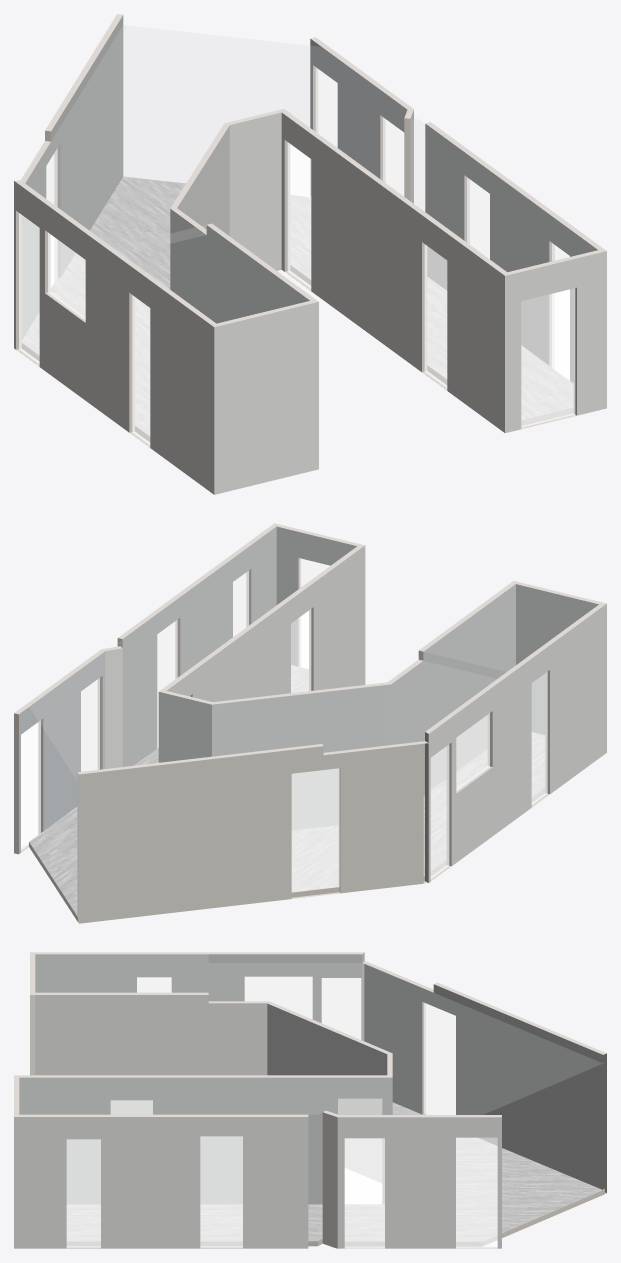
Rendered from floorplan.glb.
3 views of the same model, one above another, from view 1: azimuth 30°, elevation 25°; view 2: azimuth 150°, elevation 25°; view 3: azimuth 270°, elevation 25° (orthographic). The views are drawn at different scales.
Visible parts, largest first — view 1: ceiling_Other_4, wall_39, wall_31, wall_23, ceiling_Other_2, wall_1, wall_8, floor_Other_1, ceiling_Other_3, wall_47, wall_0, wall_27 (+32 smaller); view 2: wall_15, ceiling_Other_4, wall_31, wall_39, wall_10, ceiling_Other_2, wall_8, wall_0, floor_Other_1, ceiling_Other_3, wall_2, door_1 (+34 smaller); view 3: wall_43, wall_1, ceiling_Other_4, wall_7, wall_11, wall_19, wall_5, ceiling_Other_2, floor_Other_1, wall_51, ceiling_Other_3, floor_Other_2 (+35 smaller).
Part boxes in pixels (x1,y1,x2,y2): ceiling_Other_4: (23, 25, 374, 227); wall_39: (281, 113, 504, 432); wall_31: (14, 181, 214, 494); wall_23: (214, 302, 318, 494); ceiling_Other_2: (336, 124, 596, 271); wall_1: (22, 15, 123, 339); wall_8: (425, 124, 597, 382); floor_Other_1: (22, 176, 310, 435); ceiling_Other_3: (114, 225, 309, 322); wall_47: (505, 251, 606, 433); wall_0: (170, 209, 309, 323); wall_27: (229, 112, 281, 270); wall_15: (79, 743, 423, 923); ceiling_Other_4: (30, 672, 463, 779); wall_31: (428, 604, 606, 882); wall_39: (166, 545, 365, 701); wall_10: (212, 684, 391, 829); ceiling_Other_2: (124, 527, 356, 658); wall_8: (122, 526, 276, 766); wall_0: (391, 584, 515, 794); floor_Other_1: (29, 732, 544, 917); ceiling_Other_3: (424, 584, 597, 671); wall_2: (19, 651, 105, 853); door_1: (292, 768, 339, 892); wall_43: (14, 1117, 308, 1248); wall_1: (364, 964, 603, 1189); ceiling_Other_4: (270, 963, 601, 1114); wall_7: (19, 1077, 392, 1204); wall_11: (35, 995, 267, 1114); wall_19: (337, 1117, 501, 1248); wall_5: (35, 954, 362, 1040); ceiling_Other_2: (20, 1078, 307, 1113); floor_Other_1: (392, 1102, 604, 1241); wall_51: (267, 1003, 387, 1114); ceiling_Other_3: (36, 955, 207, 991); floor_Other_2: (67, 1204, 384, 1241).
Size of the model in its own units: 6.95 by 2.9 by 11.12.
28 materials, 2 textured.
